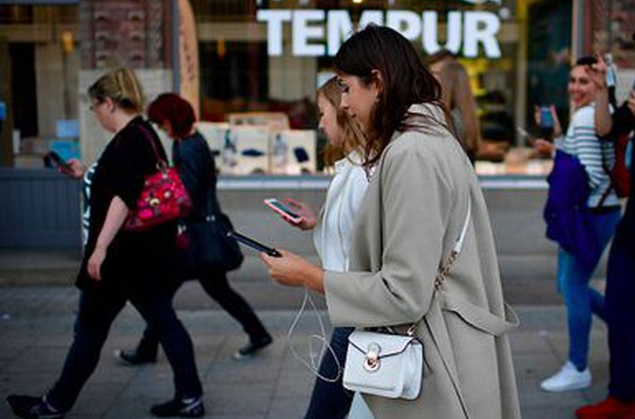reading: (225, 226, 311, 292), (260, 192, 317, 232)
